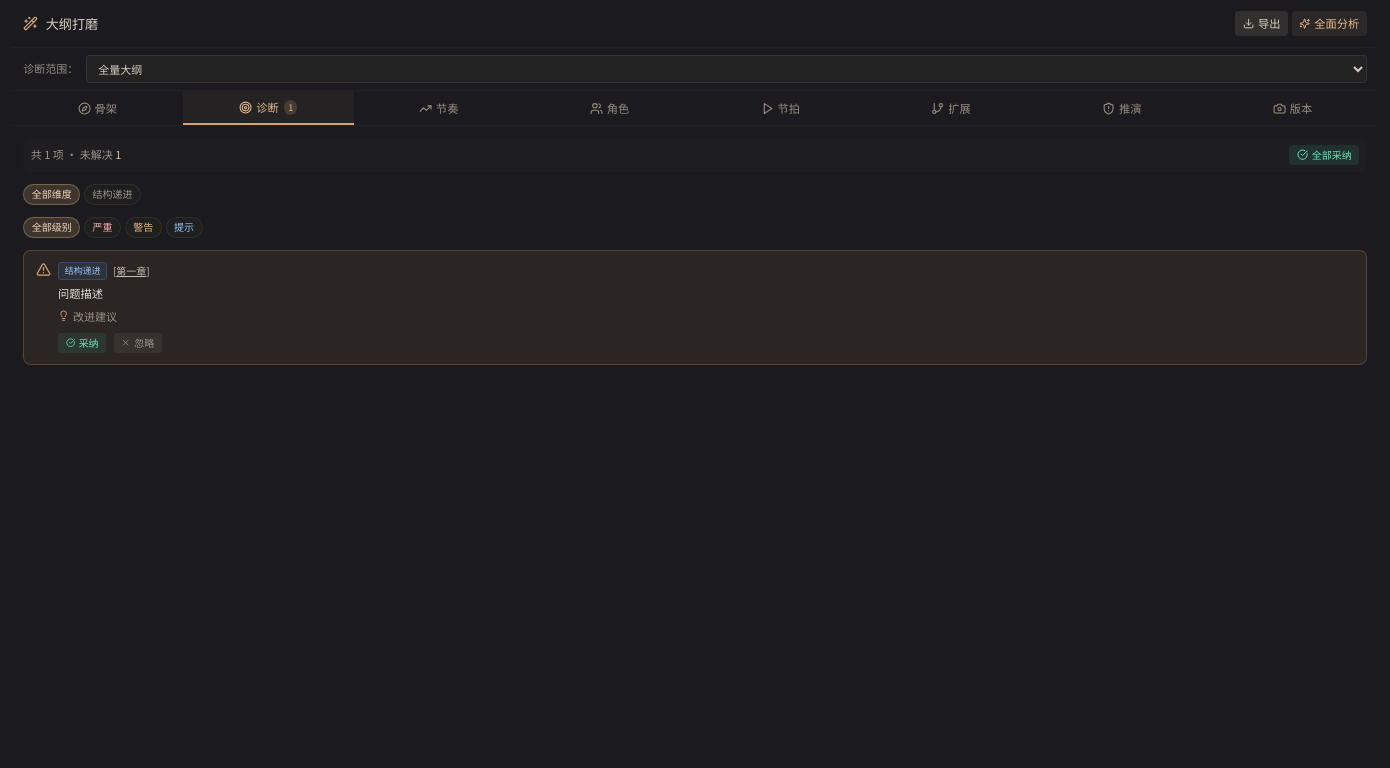
OutlinePolishPanel › 有伏笔密度时展示热力图
Click the button "节奏" at coordinates (439, 108), box [354,91,524,125]
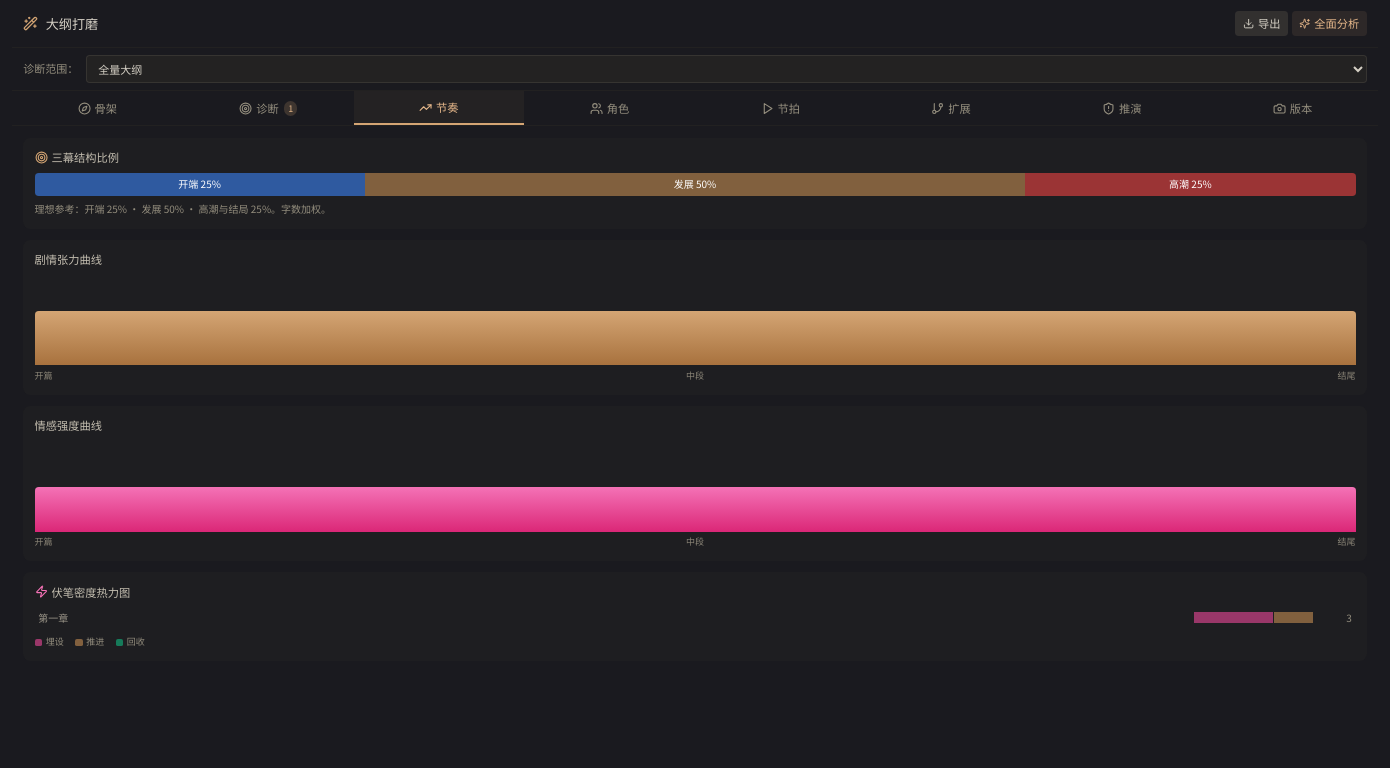
Now the text "伏笔密度热力图" is shown, box [34,584,130,600]
Now the element titled "埋设 2" is shown, box [1194,612,1273,624]
Now the element titled "推进 1" is shown, box [1274,612,1313,624]
